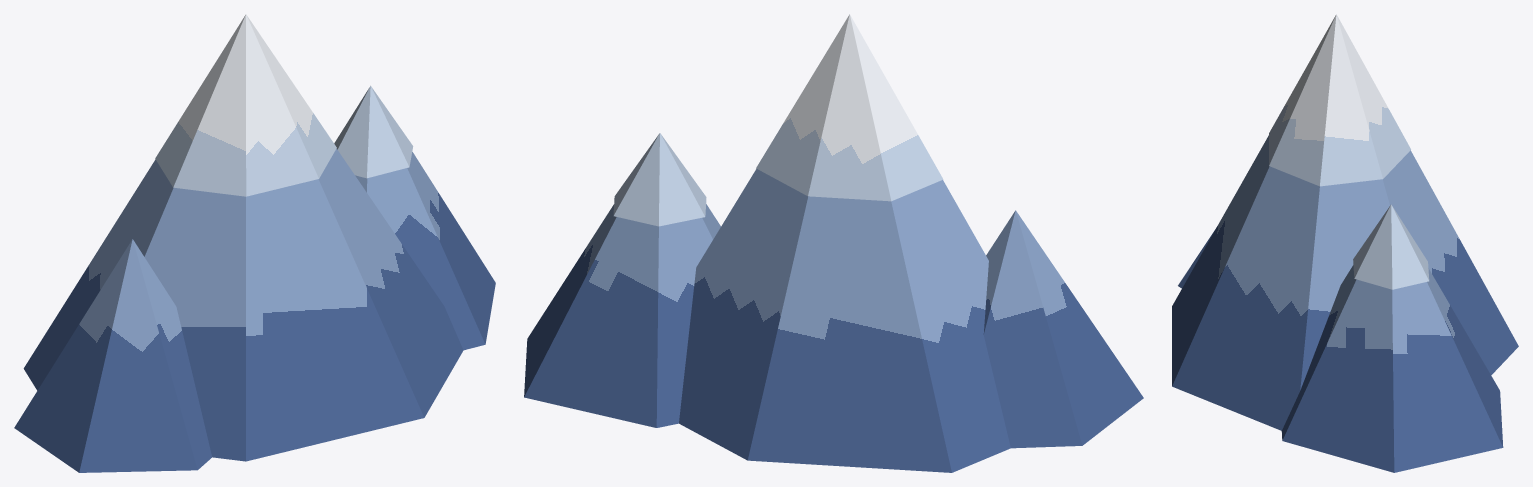
Rendered from mountain.glb.
The picture shows the model from 3 angles, left to right: view 1: azimuth 30°, elevation 25°; view 2: azimuth 150°, elevation 25°; view 3: azimuth 270°, elevation 25°; orthographic projection. The views are drawn at different scales.
Parts seen in each view (by area): view 1: mountain; view 2: mountain; view 3: mountain.
Boxes of the visible parts, bbox=[...] form: mountain: bbox=[14, 14, 495, 472]; mountain: bbox=[524, 14, 1143, 472]; mountain: bbox=[1172, 14, 1518, 472].
Bounding box in the file's own units: 14.88 × 10.05 × 9.5.
1 material, 1 textured.
